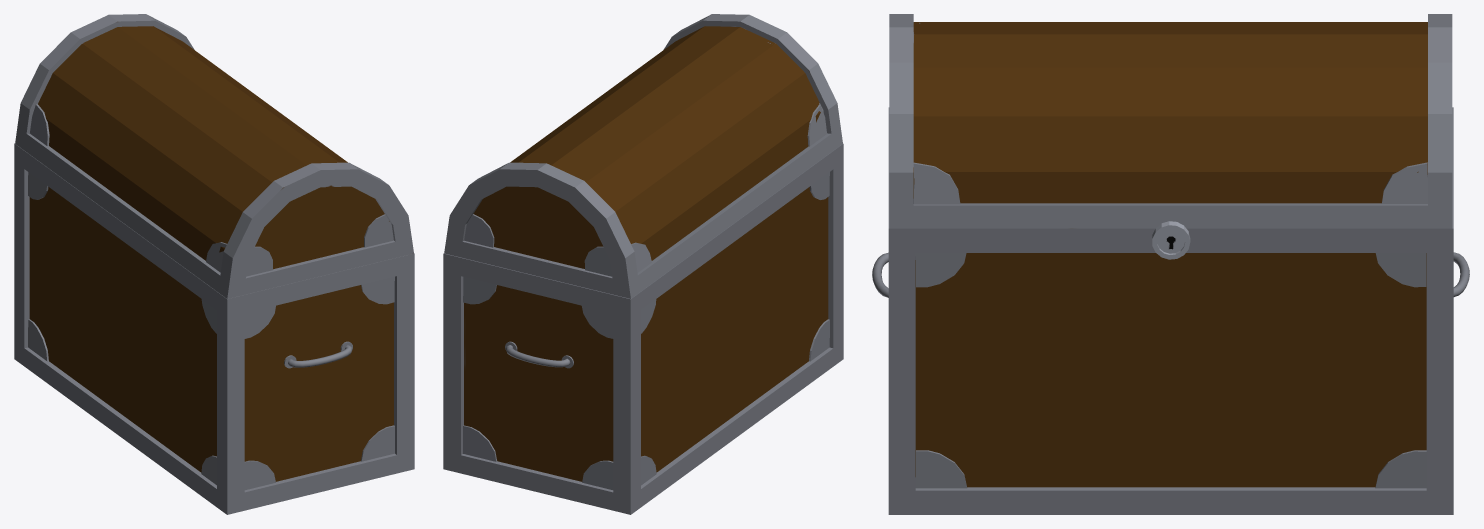
Rendered from Cofre.fbx.
3 renders of one model, left to right at view 1: azimuth 30°, elevation 25°; view 2: azimuth 150°, elevation 25°; view 3: azimuth 270°, elevation 25°, orthographic. The views are drawn at different scales.
Visible parts, largest first — view 1: Cofre_Abajo, Cofre_Arriba, Agarres; view 2: Cofre_Abajo, Cofre_Arriba, Agarres; view 3: Cofre_Abajo, Cofre_Arriba, Llave, Agarres.
Part boxes in pixels (bbox=[...]): Cofre_Abajo: bbox=[14, 143, 414, 514]; Cofre_Arriba: bbox=[15, 14, 413, 298]; Agarres: bbox=[284, 341, 352, 368]; Cofre_Abajo: bbox=[443, 143, 843, 514]; Cofre_Arriba: bbox=[444, 14, 842, 298]; Agarres: bbox=[505, 341, 573, 368]; Cofre_Abajo: bbox=[888, 107, 1453, 514]; Cofre_Arriba: bbox=[889, 14, 1452, 228]; Llave: bbox=[1152, 221, 1190, 259]; Agarres: bbox=[872, 252, 1469, 297].
Size of the model in its own units: 62.02 by 98.47 by 125.
4 materials, 4 textured.
